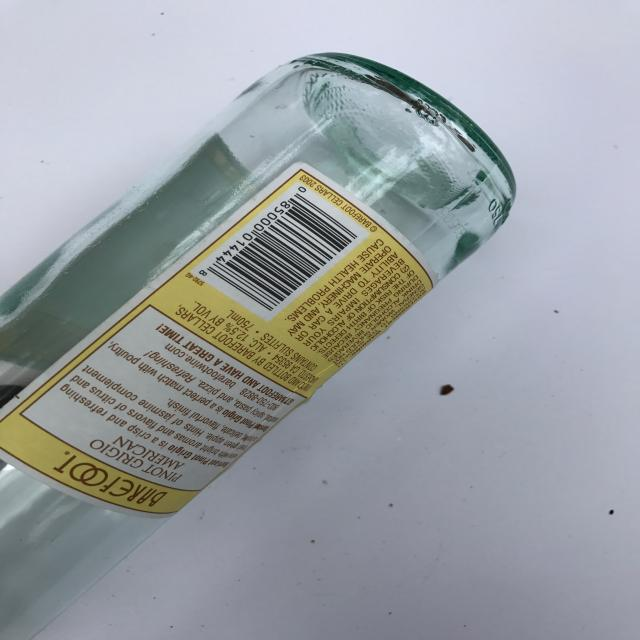glass: (1, 50, 517, 637)
